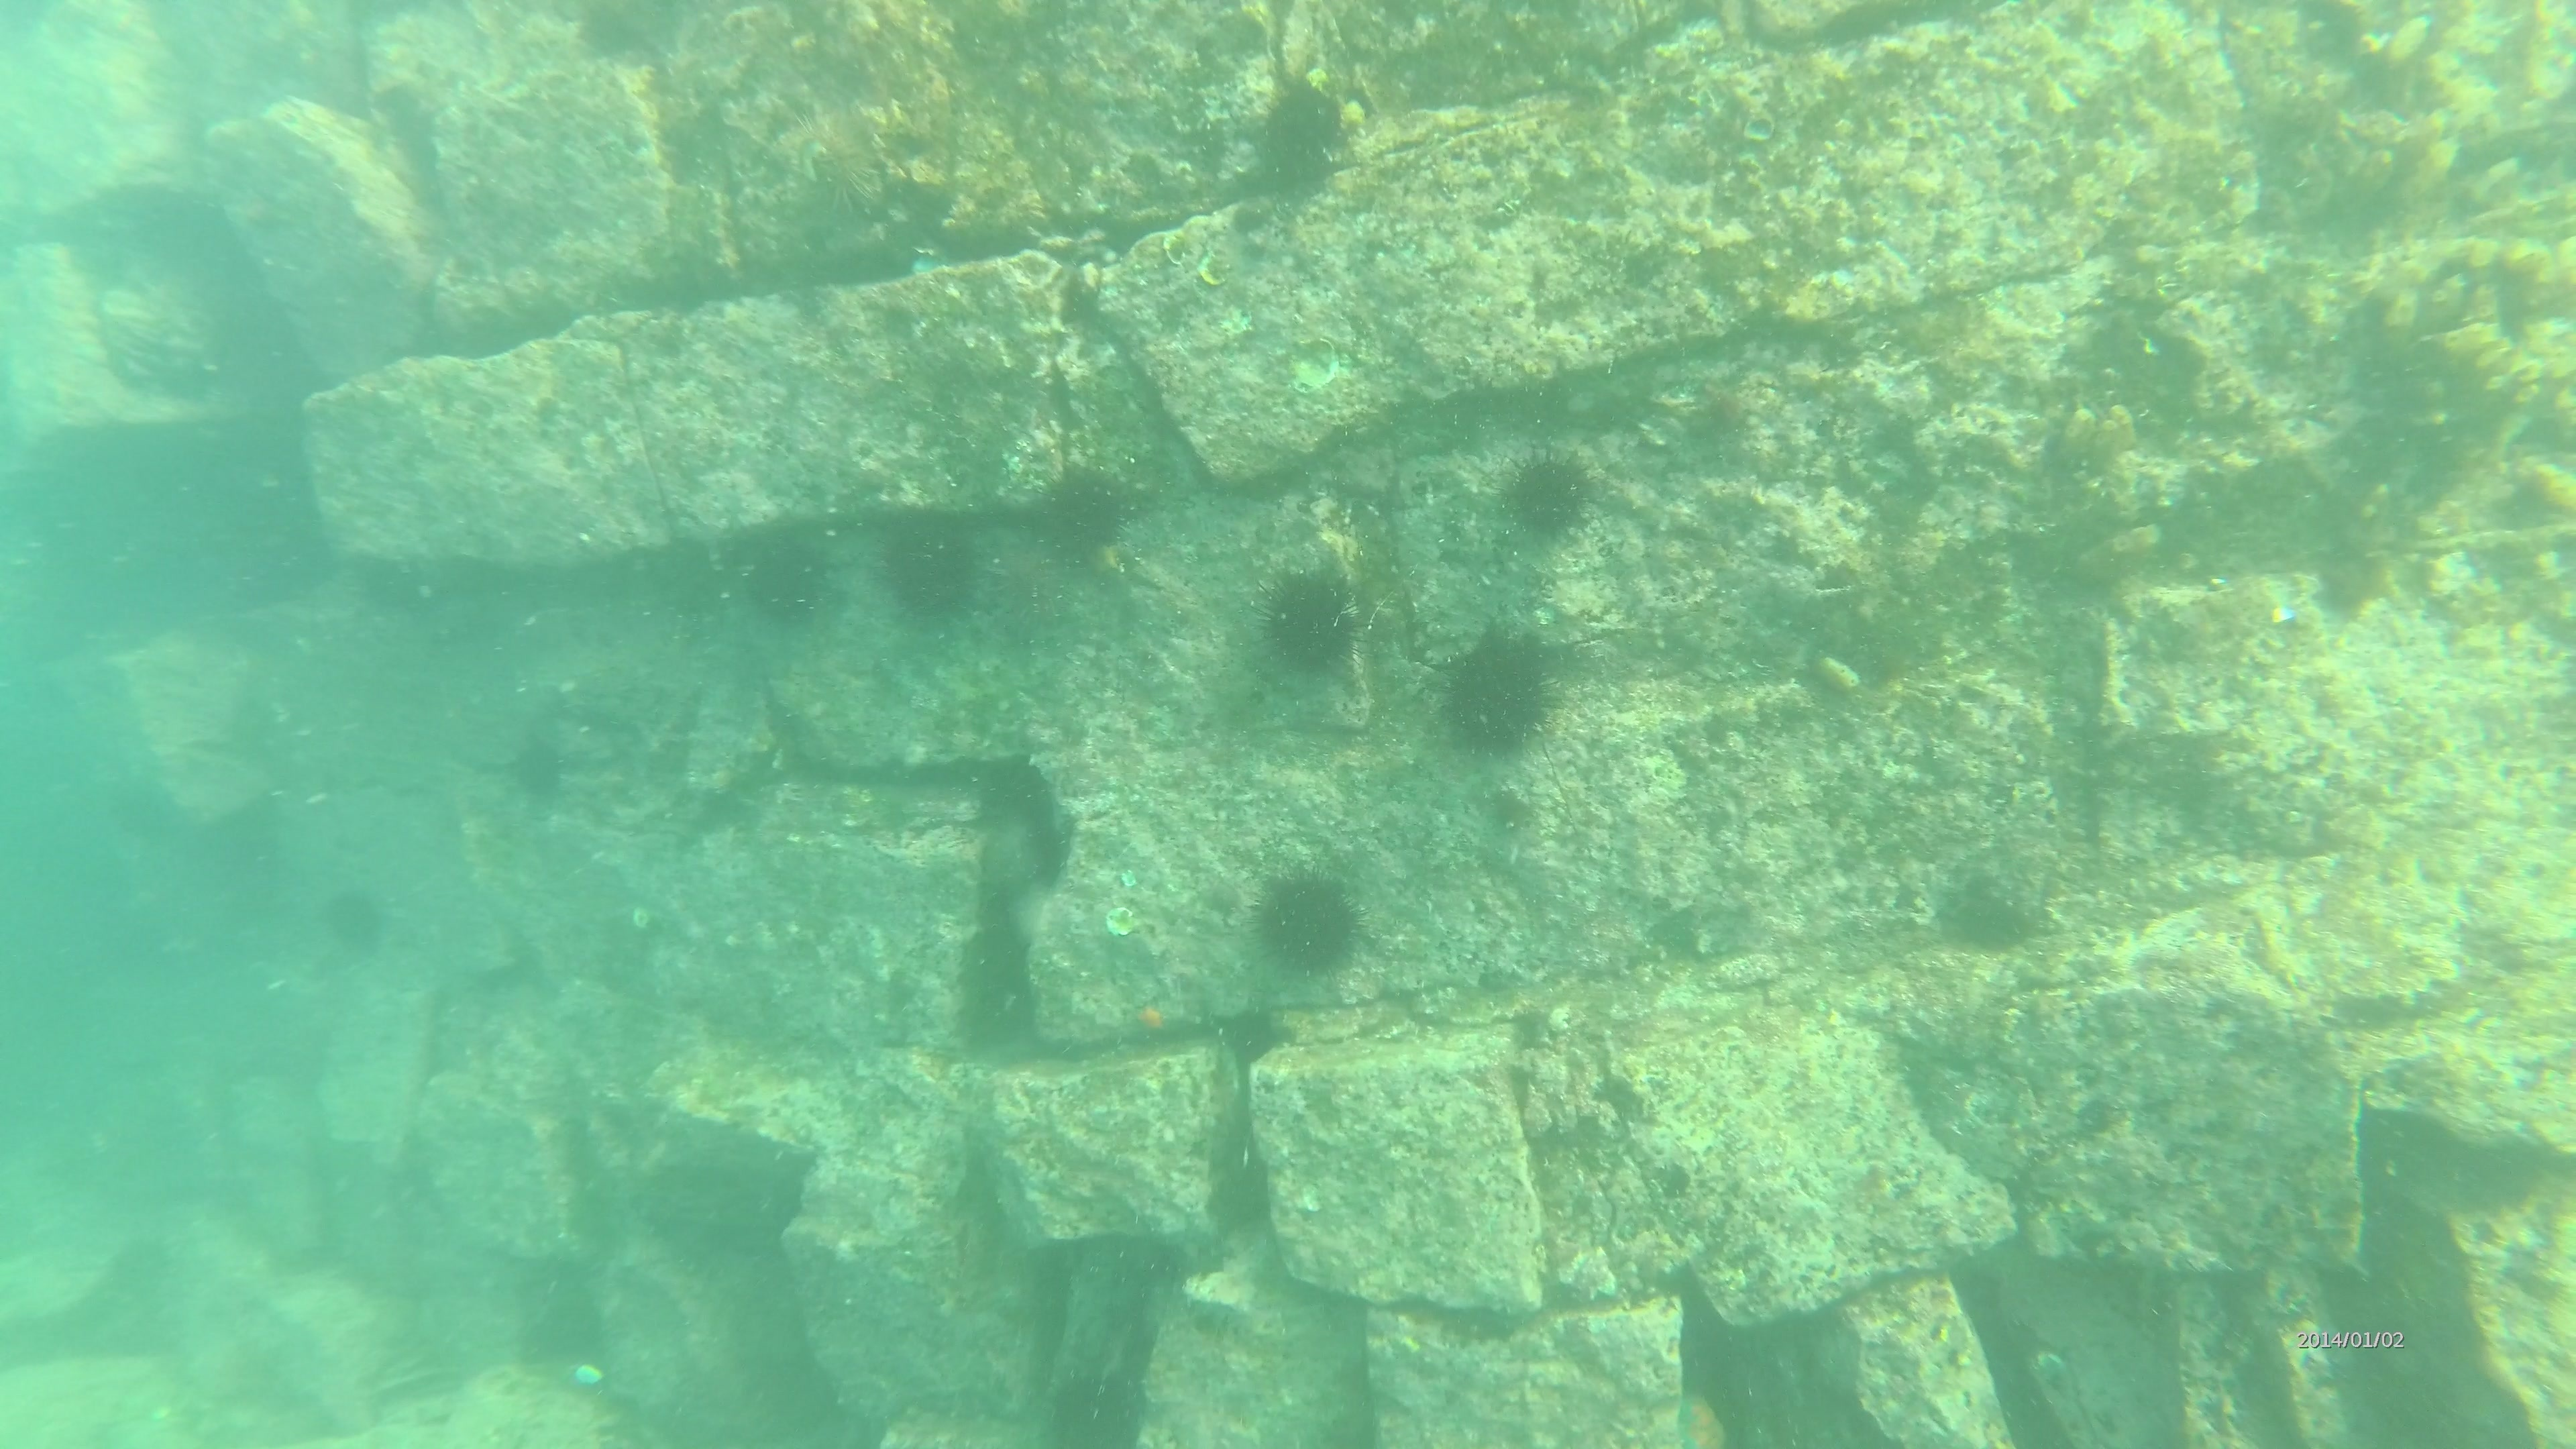echinus: (1435, 621, 1562, 755), (1030, 456, 1177, 571), (1253, 566, 1373, 674), (1941, 885, 2058, 987), (1491, 444, 1606, 547), (1256, 876, 1369, 975), (881, 501, 980, 610), (740, 534, 840, 628), (483, 722, 584, 816), (989, 538, 1077, 642), (1254, 83, 1343, 186), (322, 897, 387, 955)
